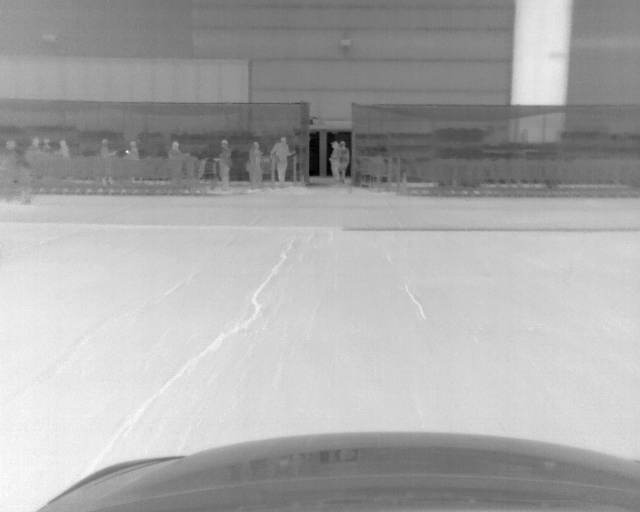people: (270, 137, 295, 190), (4, 138, 23, 203), (246, 141, 267, 191), (213, 139, 232, 191), (328, 141, 339, 184), (338, 141, 348, 184), (99, 138, 117, 157), (123, 141, 140, 161), (55, 140, 71, 157), (169, 141, 181, 158), (29, 136, 40, 153), (42, 138, 52, 153)
